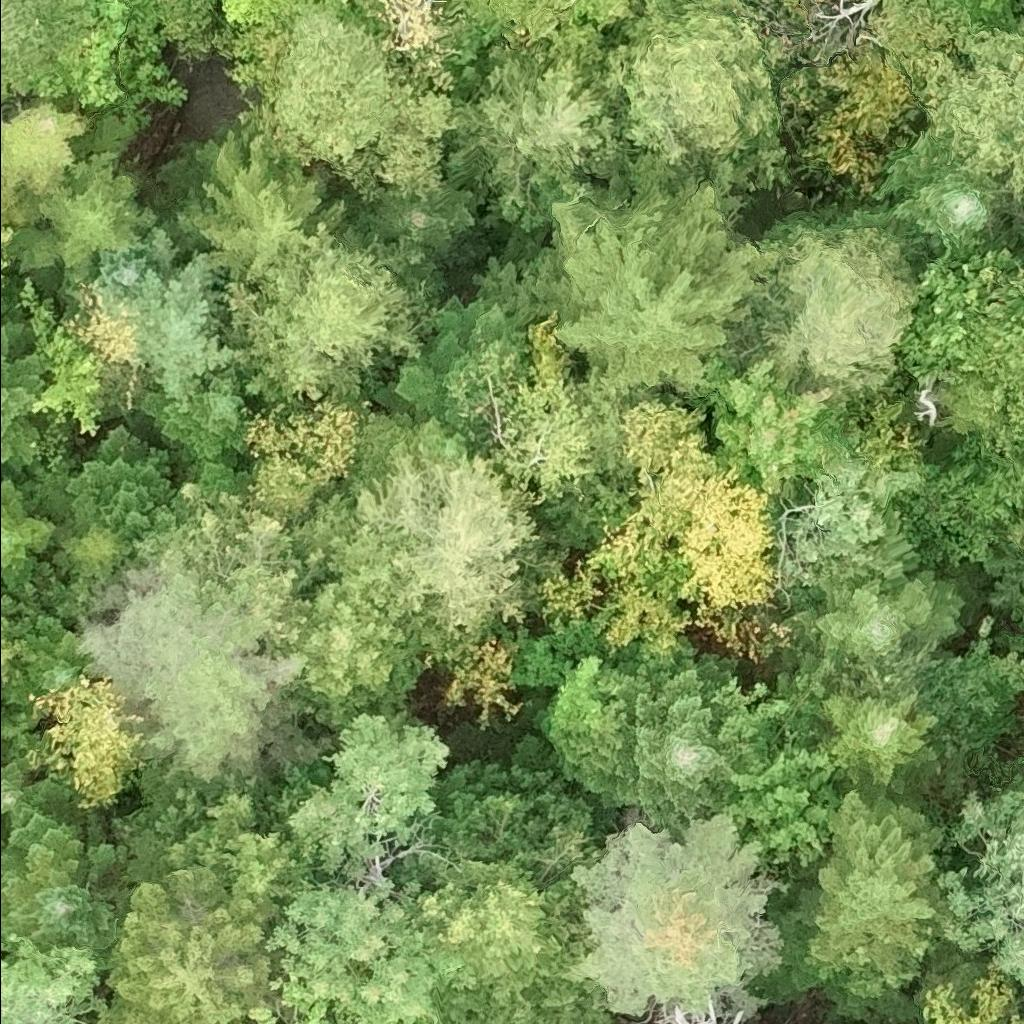crown: (290, 416, 545, 656), (530, 145, 762, 394), (77, 550, 312, 781), (582, 398, 776, 666), (751, 773, 946, 1023), (563, 810, 787, 1022), (718, 209, 930, 397), (217, 216, 422, 409), (445, 26, 626, 234), (603, 0, 792, 191), (144, 118, 349, 285), (251, 875, 477, 1023), (418, 856, 618, 1023), (569, 652, 743, 838), (283, 707, 453, 881), (95, 860, 273, 1023), (682, 348, 854, 514), (4, 113, 159, 295), (264, 0, 404, 172), (770, 454, 925, 603), (0, 799, 134, 969), (910, 18, 1023, 212), (872, 125, 1023, 268), (288, 580, 428, 730), (935, 762, 1023, 987), (128, 246, 238, 413), (780, 568, 972, 661), (372, 291, 509, 421), (22, 672, 146, 814), (721, 740, 845, 871), (509, 618, 616, 763), (16, 272, 104, 437), (62, 424, 181, 538), (334, 185, 478, 272), (956, 262, 1023, 447), (818, 688, 942, 786), (0, 98, 93, 227), (137, 365, 245, 467), (34, 0, 136, 108), (59, 282, 139, 406), (0, 931, 104, 1023), (0, 0, 79, 105), (446, 0, 641, 42), (91, 224, 181, 314), (0, 304, 47, 475), (0, 618, 91, 706), (711, 668, 791, 768), (366, 0, 451, 92), (0, 474, 57, 589), (123, 0, 220, 67), (921, 965, 1023, 1023), (528, 555, 602, 629), (0, 753, 76, 816), (185, 459, 250, 502), (651, 995, 746, 1023), (221, 0, 299, 32), (998, 503, 1023, 570), (234, 1001, 286, 1023), (293, 999, 327, 1023), (0, 226, 13, 277), (367, 1019, 380, 1023), (337, 0, 346, 5), (413, 1022, 426, 1023)
